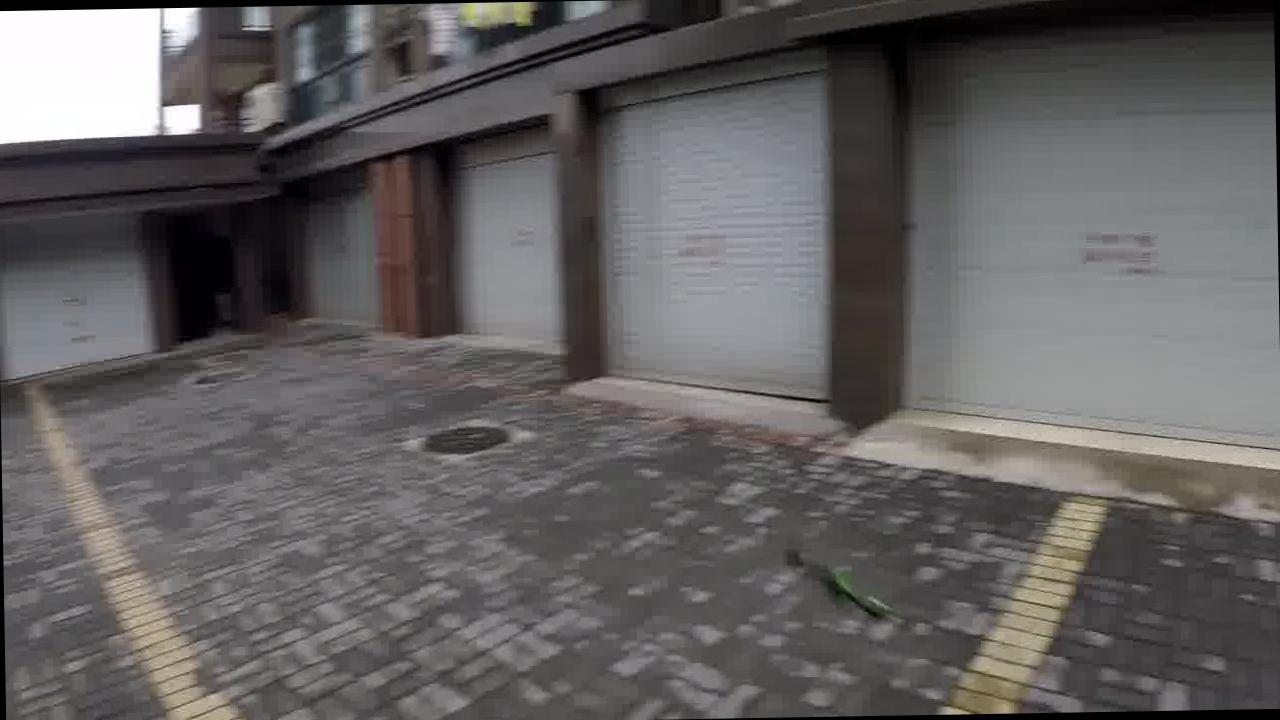drone: (781, 532, 896, 626)
